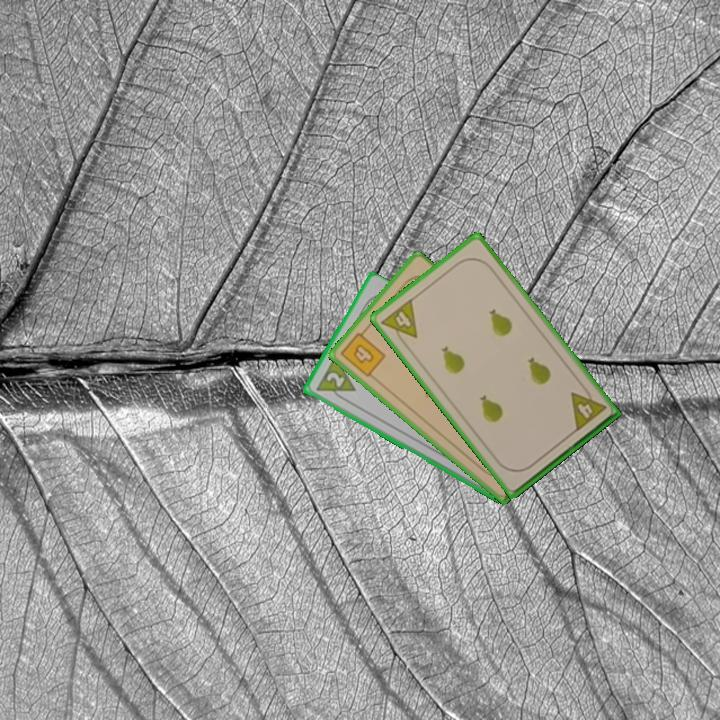2p: (312, 354, 358, 405)
4b: (337, 325, 388, 380)
4p: (378, 295, 420, 349), (567, 382, 609, 434)
